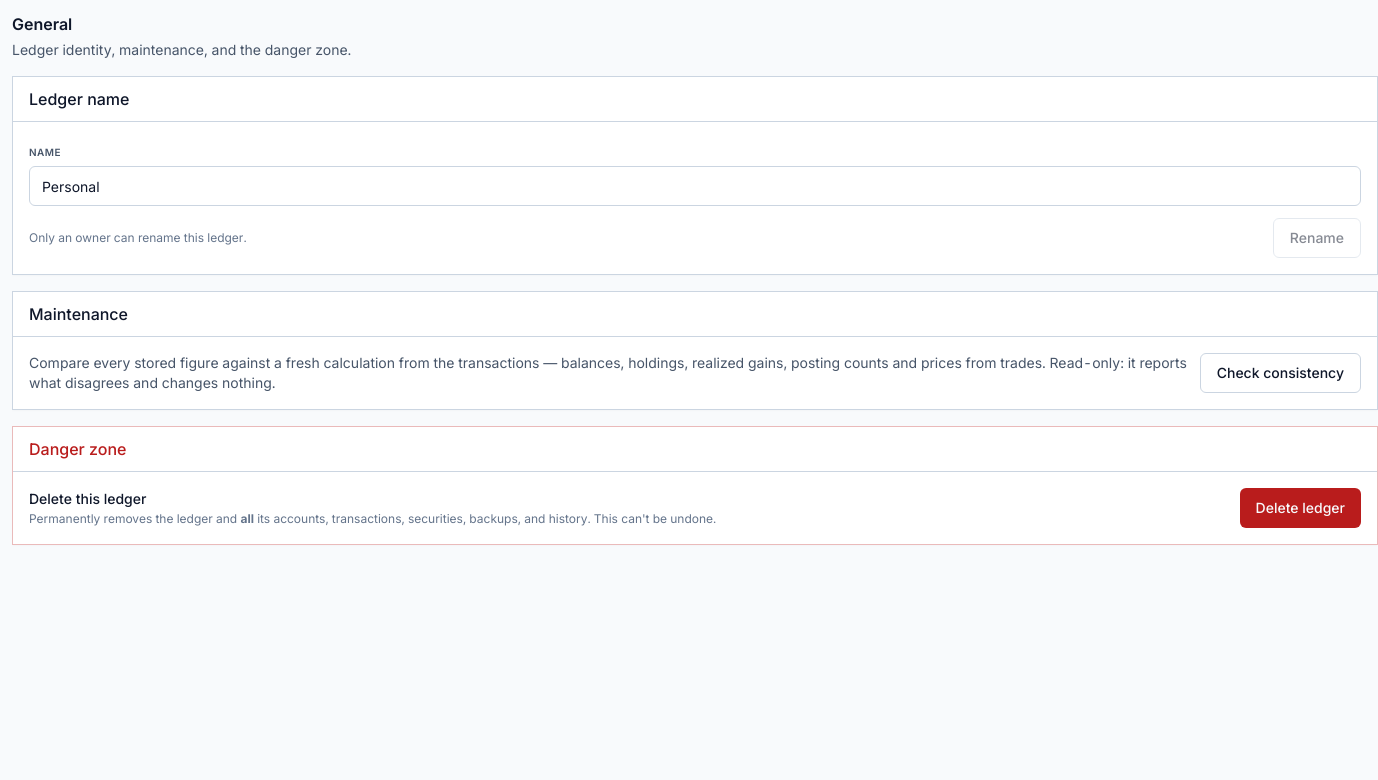
GeneralPanel — consistency maintenance › shows unbacked prices as advice, not as a finding
The image size is (1378, 780).
Click the button "Check consistency" at (1280, 373), box [1200,353,1361,393]
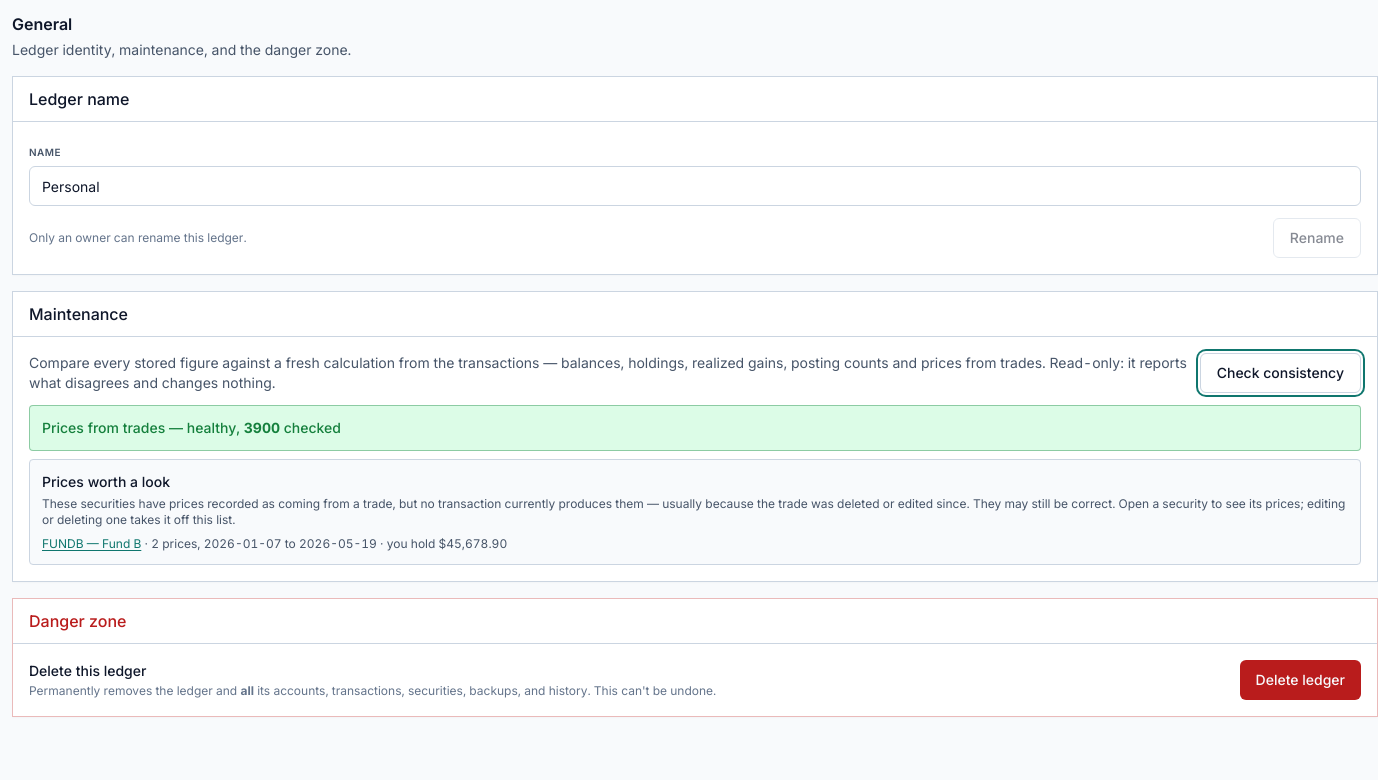
Expected: the text "Prices from trades — healthy, 3900 checked" is shown, [42,418,341,438]
Expected: the text "· 2 prices, 2026-01-07 to 2026-05-19 · you hold $45,678.90" is shown, [144,536,507,551]
